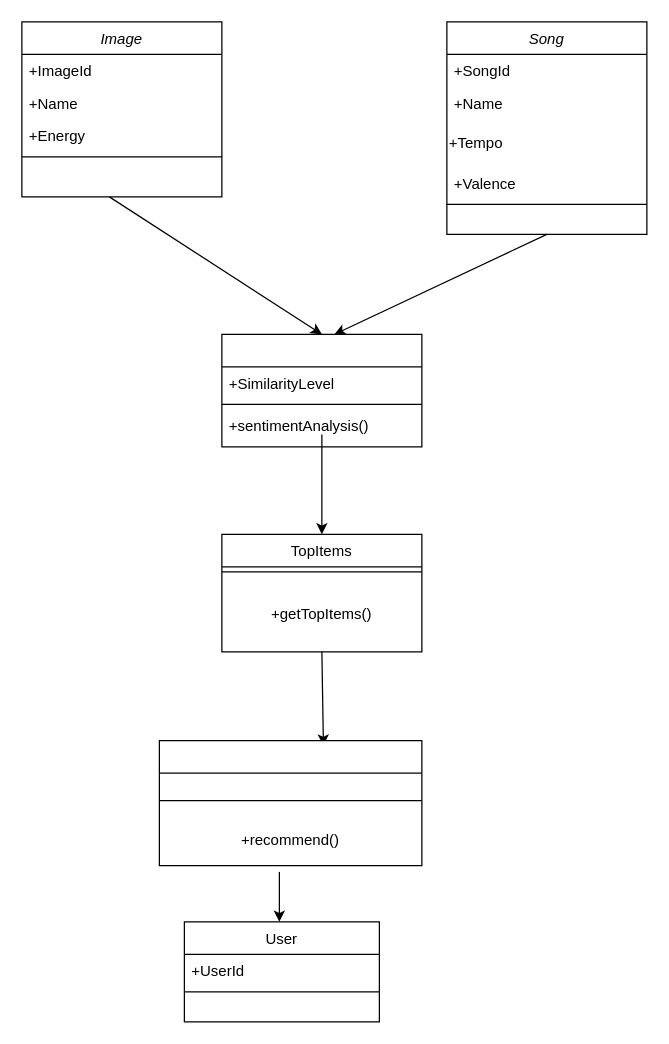
Image size: 669x1044. Some labels were removed from this diagram. The shapes that lost their labels are listed below. From the top down, each one's box as (x1, y1, x2, y2) in pixels, then its label:
(221, 333, 422, 447): SentimentSimilarity
(158, 739, 422, 866): Recommender
